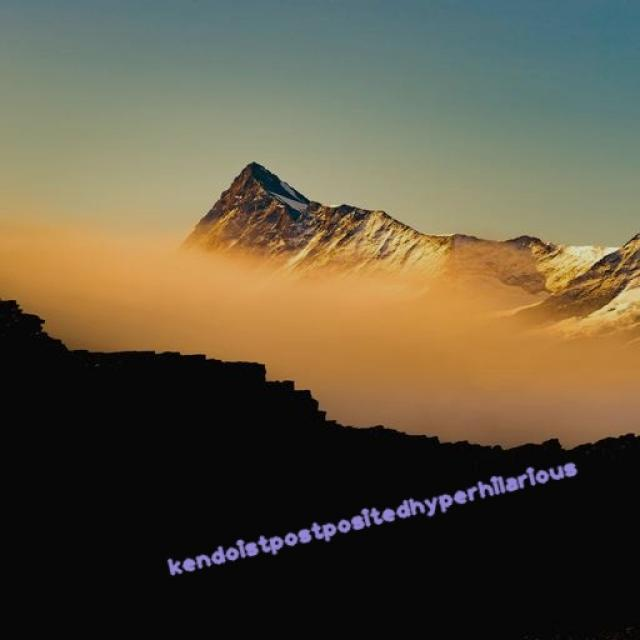watermark: (164, 457, 579, 578)
